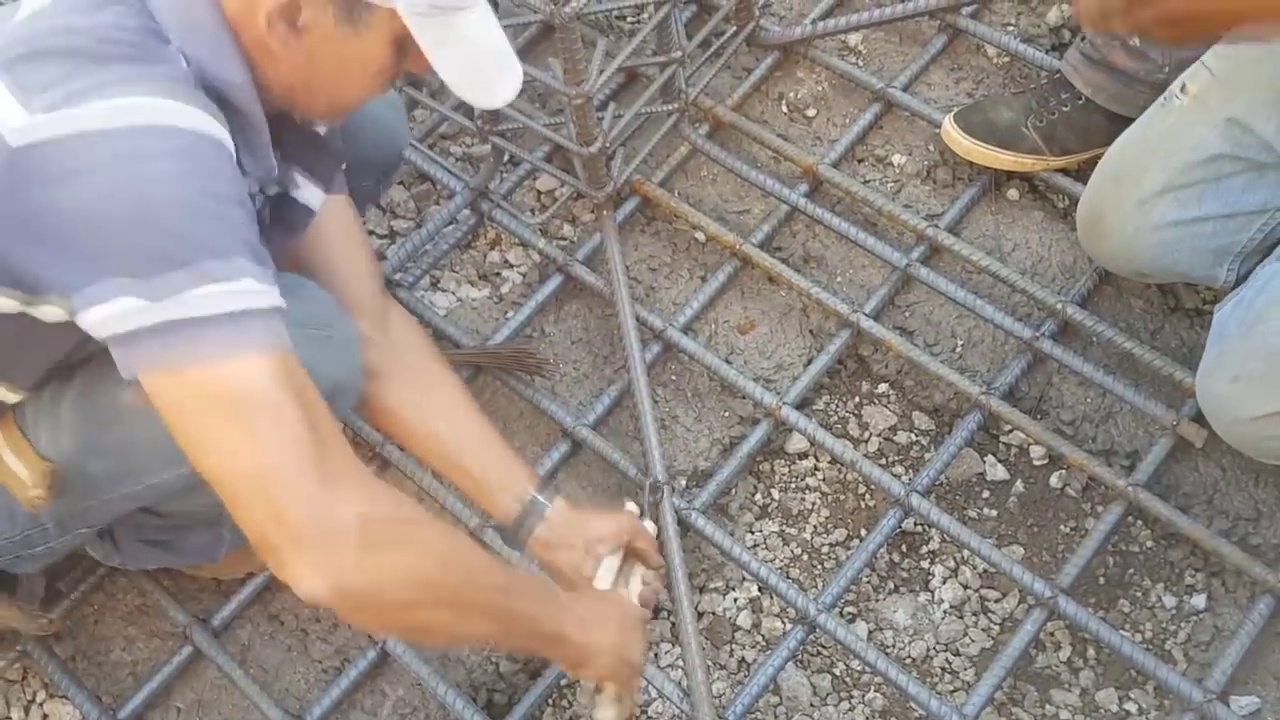helmet-off: (153, 2, 520, 143)
person: (0, 3, 654, 708), (933, 0, 1280, 460)
